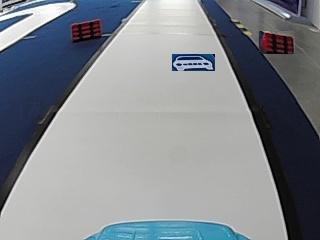bomb: (70, 17, 101, 40)
